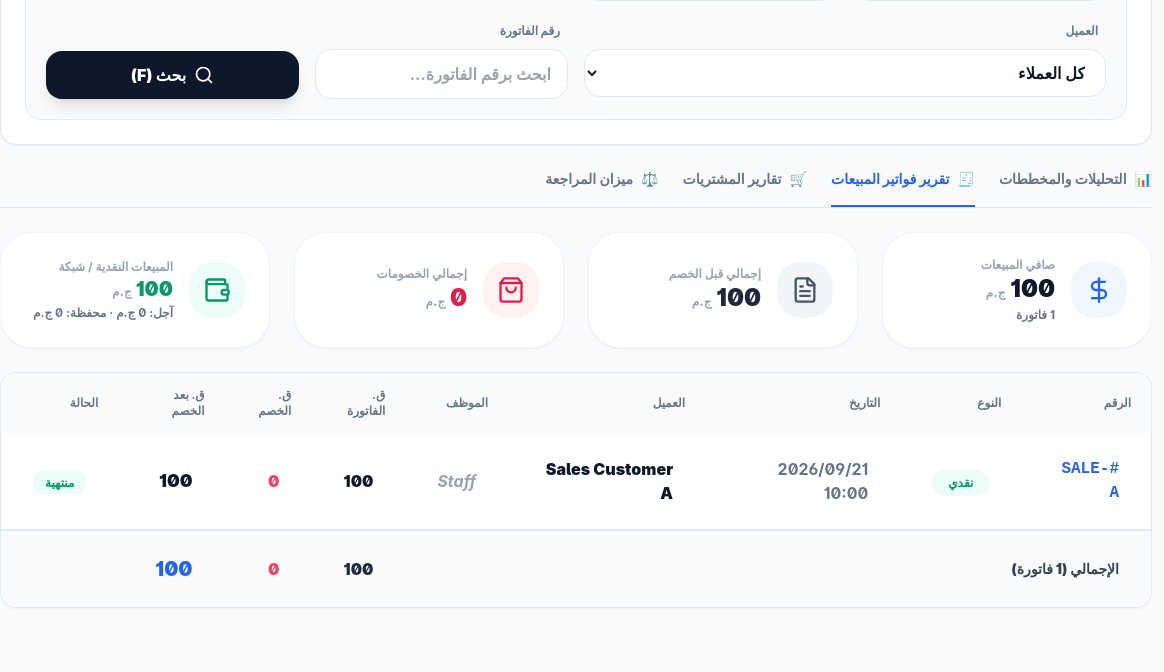
Test: report clients async response ordering › closes sales invoice details when a successful new search no longer owns that invoice
The image size is (1164, 672).
(page scrolled)
Click the text "Sales Customer A" at (576, 482), box [1, 433, 1151, 530]
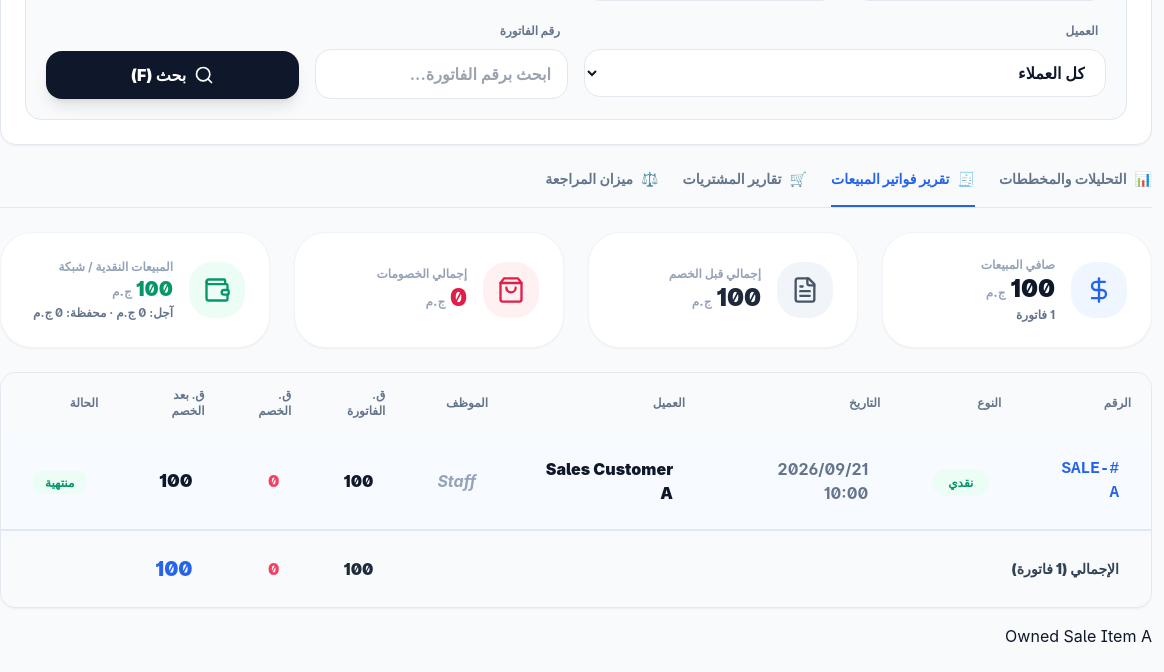
Result: the text with test id "sales-report-receipt" reads "Owned Sale Item A" at [1005, 626, 1152, 646]
Type "SALE-B" into the field with placeholder "ابحث برقم الفاتورة..." at (442, 74), box [315, 49, 568, 99]
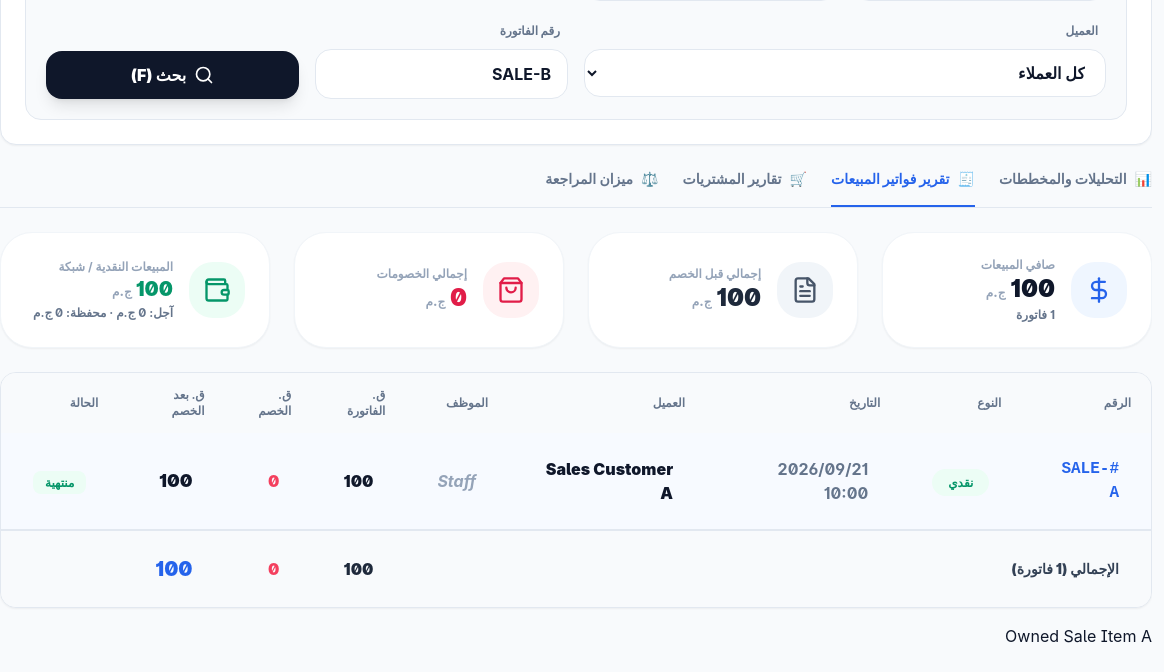
Click the button "بحث (F)" at (172, 75), box [46, 51, 299, 99]
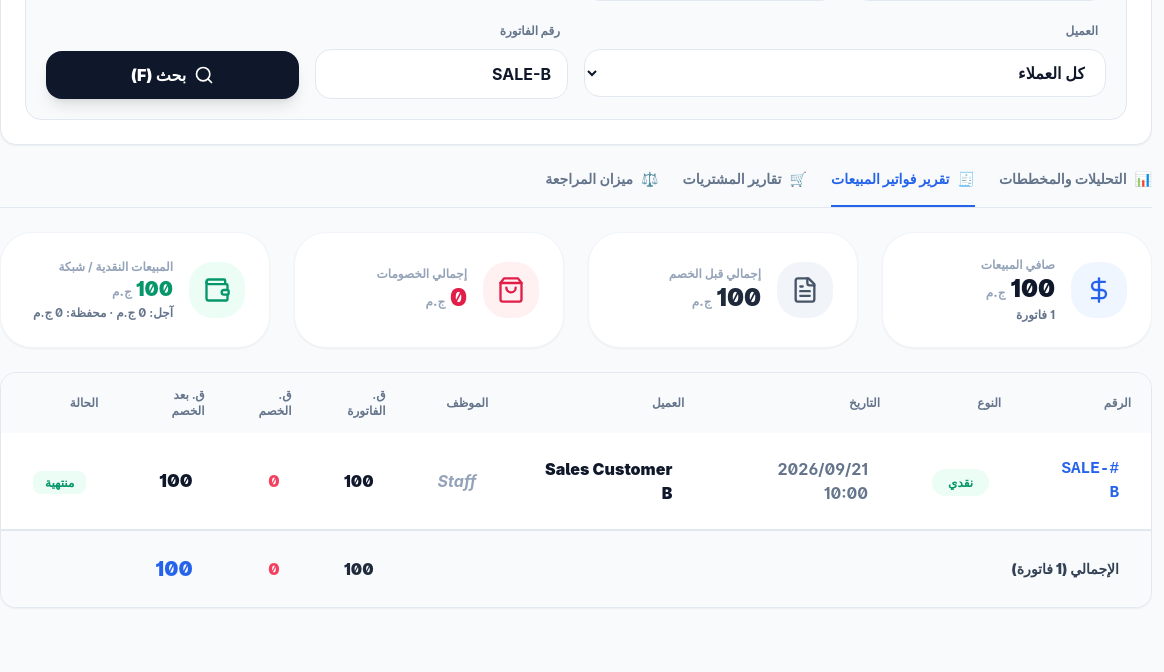
Result: the text "Sales Customer B" is shown at [508, 433, 704, 530]
Result: the text with test id "sales-report-receipt" is gone
